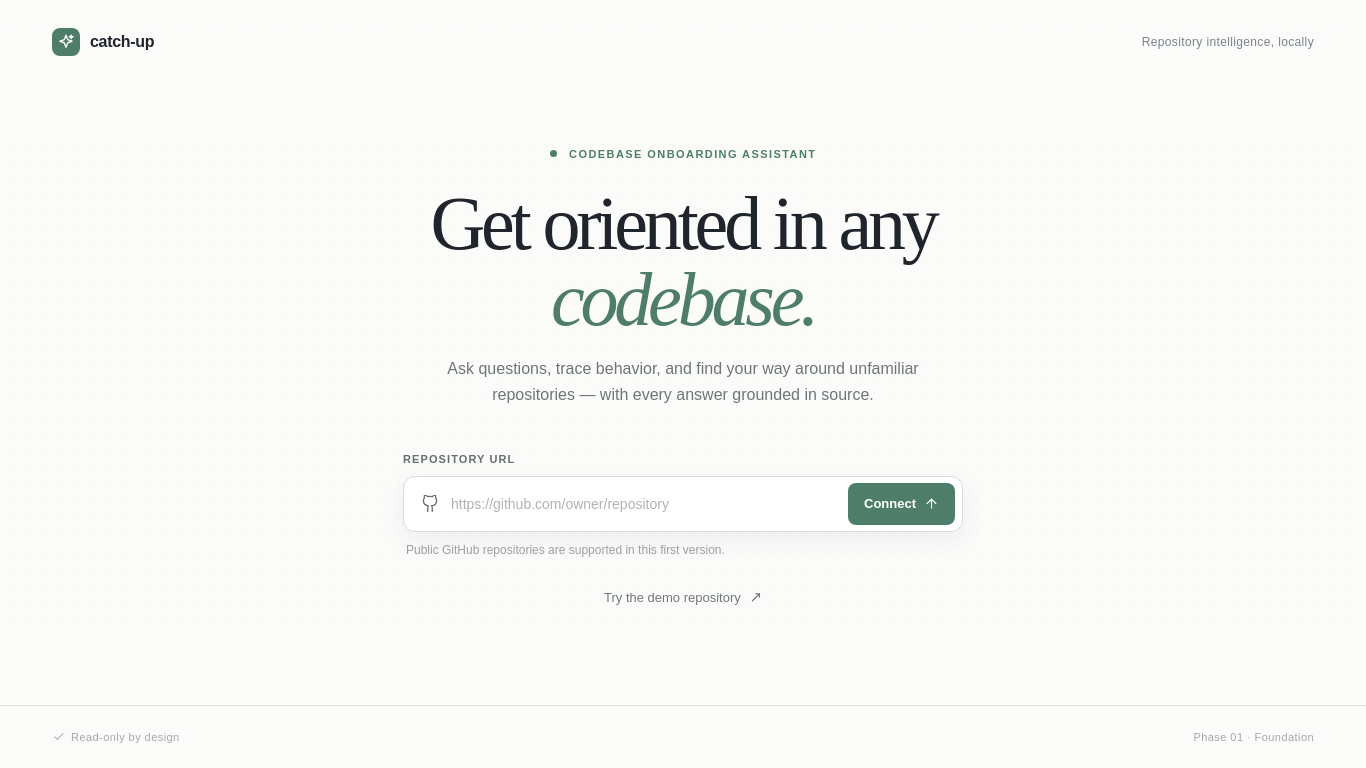
it: Landing › shows the backend error when repository creation fails
The image size is (1366, 768).
Type "not a repository" into the field labelled "Repository URL" at (644, 504), box [451, 484, 836, 524]
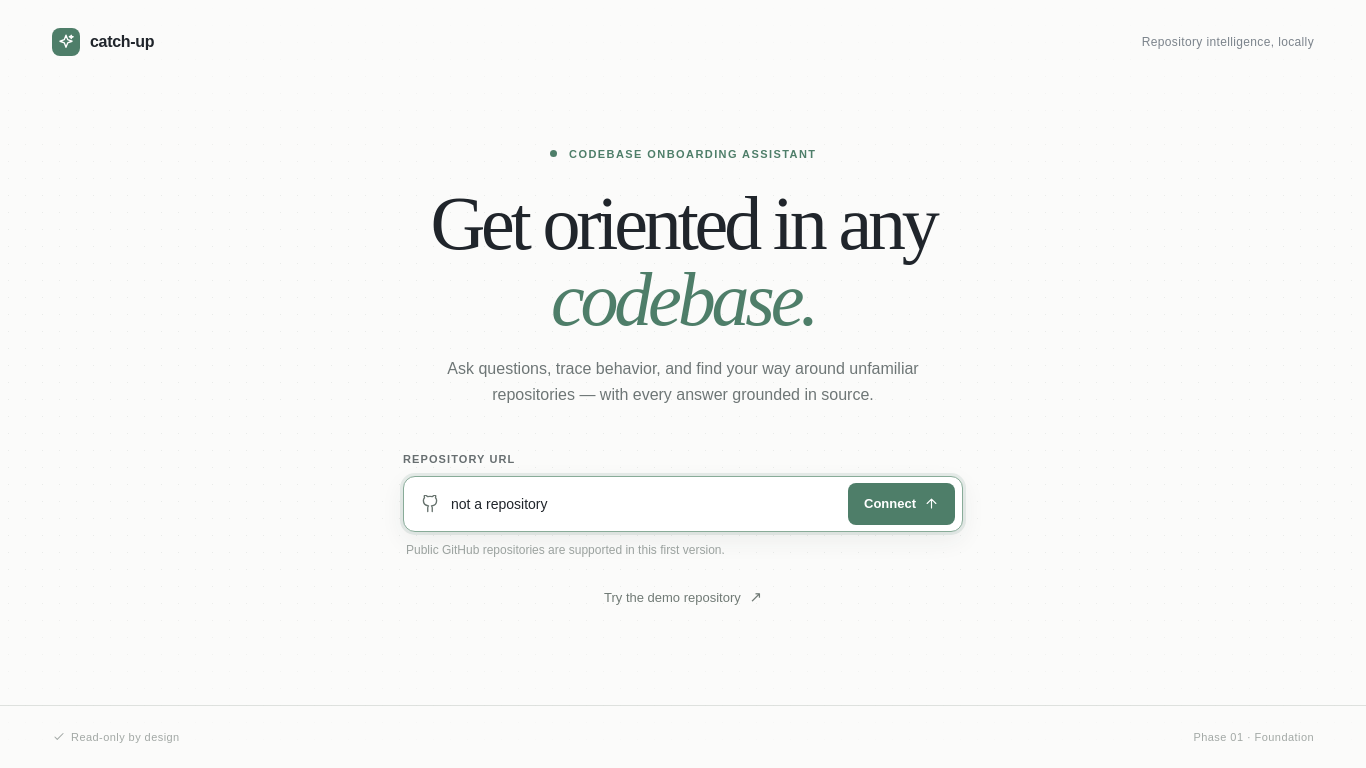
Click the button "Connect" at (902, 504), box [848, 483, 955, 525]
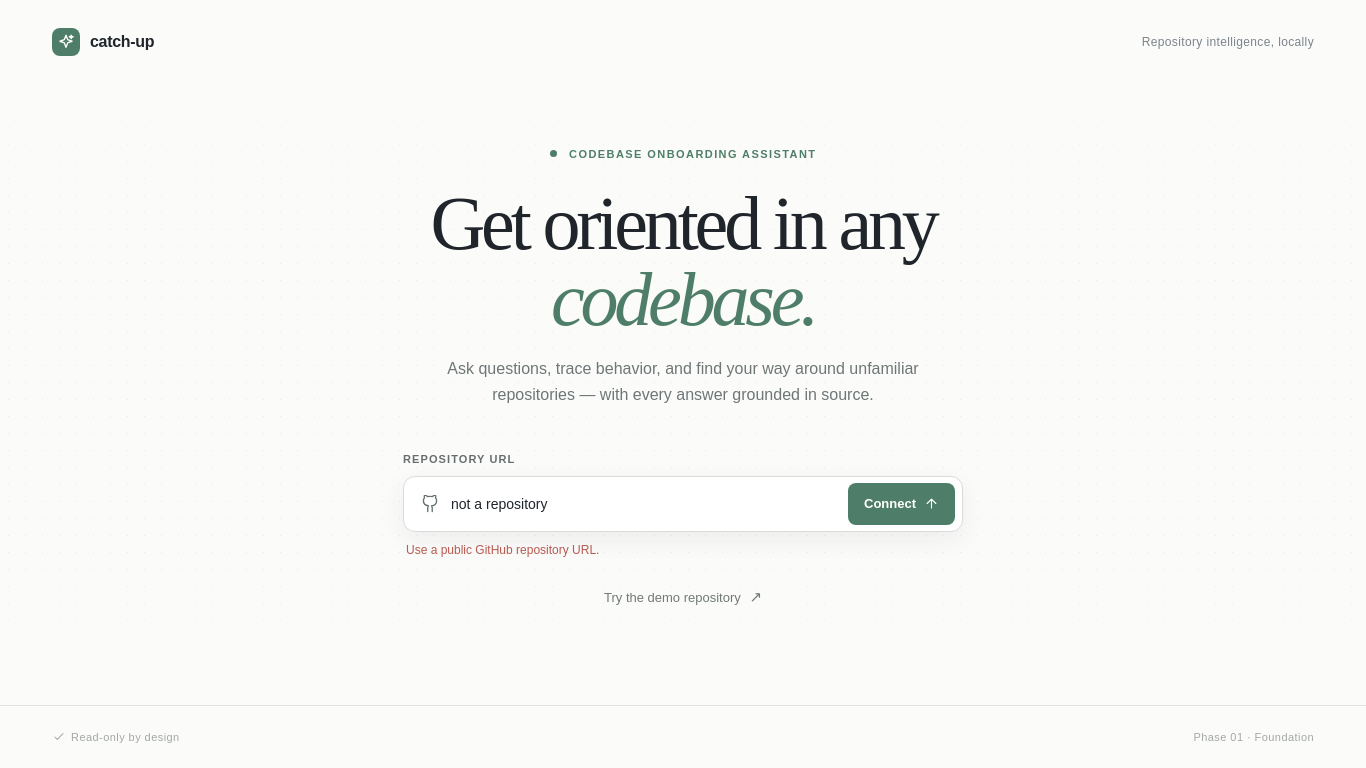
Now the text "Use a public GitHub repository URL." is shown, box [406, 543, 599, 557]
